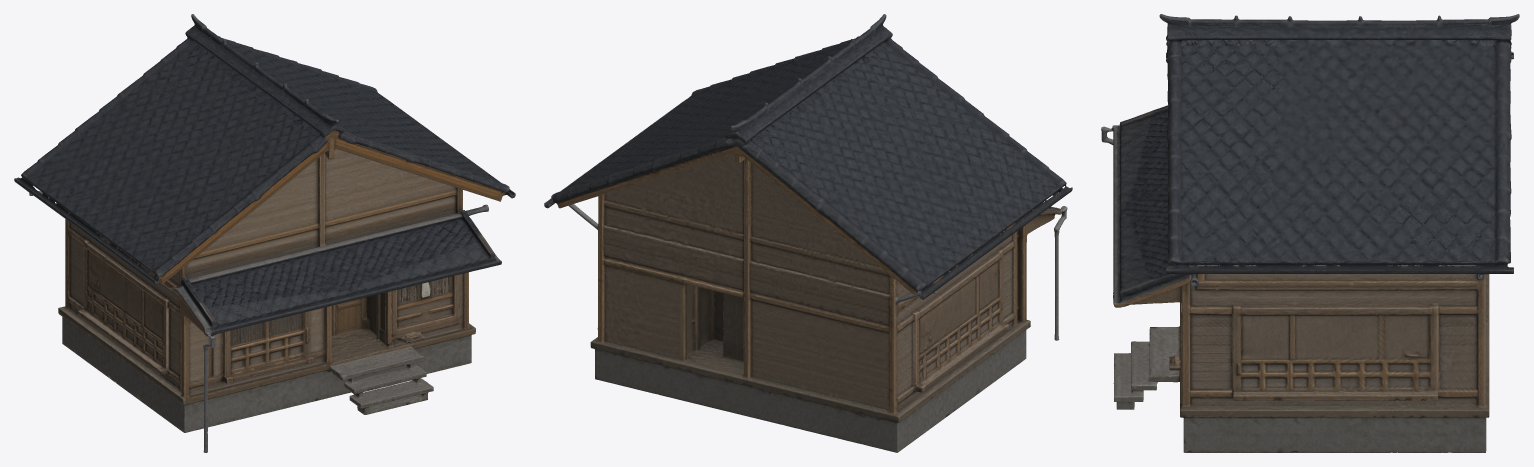
File: village_house3.glb
The picture shows the model from 3 angles, left to right: view 1: azimuth 30°, elevation 25°; view 2: azimuth 150°, elevation 25°; view 3: azimuth 270°, elevation 25°; orthographic projection. The views are drawn at different scales.
Visible parts, largest first — view 1: mesh_node; view 2: mesh_node; view 3: mesh_node.
Part boxes in pixels (x1,y1,x2,y2): mesh_node: (14,14,515,452); mesh_node: (544,14,1072,452); mesh_node: (1101,14,1519,452).
Size of the model in its own units: 1.9 by 1.43 by 1.54.
1 material, 1 textured.
